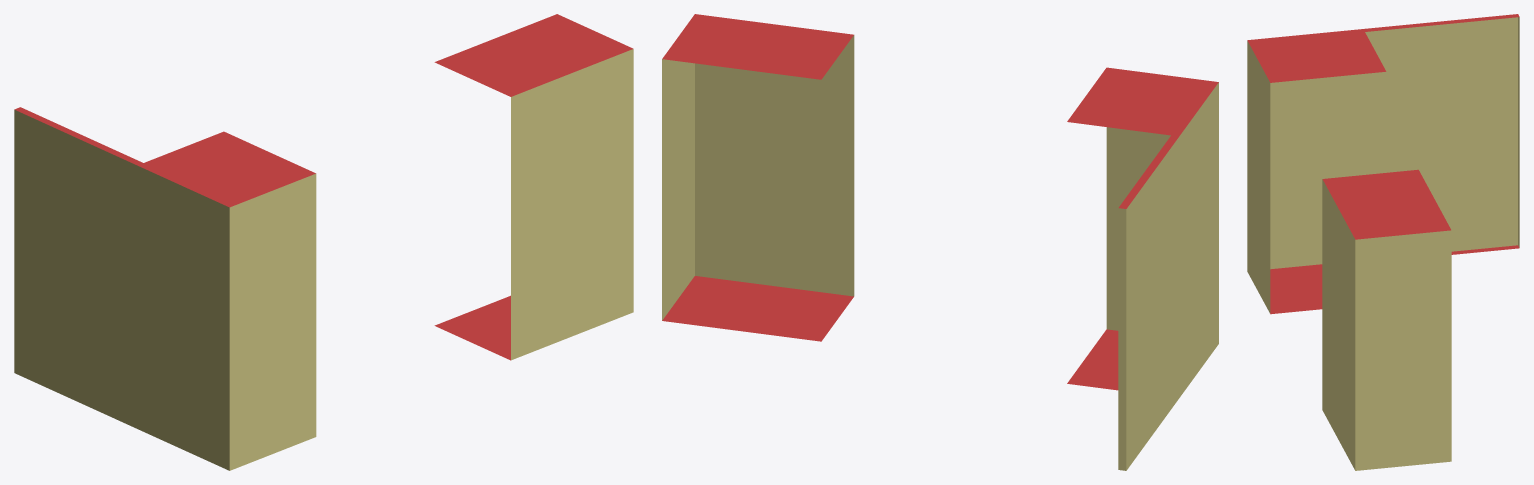
The picture shows the model from 3 angles, left to right: view 1: azimuth 30°, elevation 25°; view 2: azimuth 150°, elevation 25°; view 3: azimuth 270°, elevation 25°; orthographic projection. The views are drawn at different scales.
Bounding box in the file's own units: 14.87 × 7.59 × 7.1.
